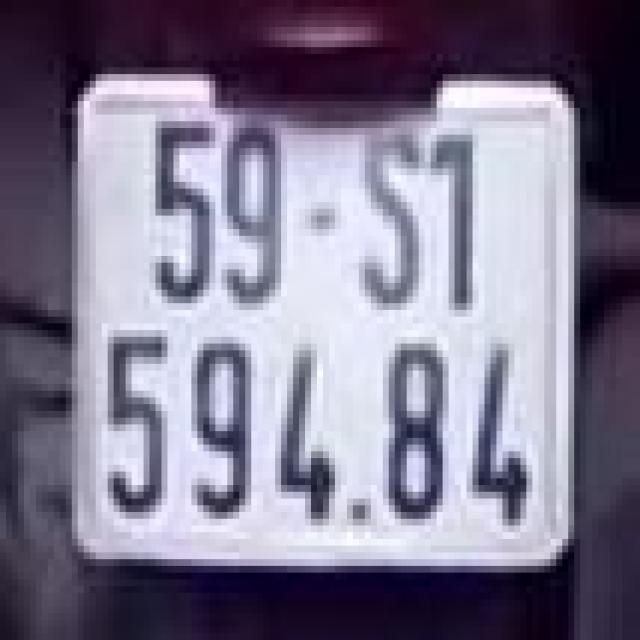1: (428, 115, 493, 316)
4: (266, 330, 344, 532), (464, 334, 536, 536)
5: (96, 324, 179, 526), (140, 115, 218, 303)
8: (376, 340, 454, 529)
9: (215, 108, 293, 310), (188, 334, 260, 522)
S: (359, 104, 425, 320)
